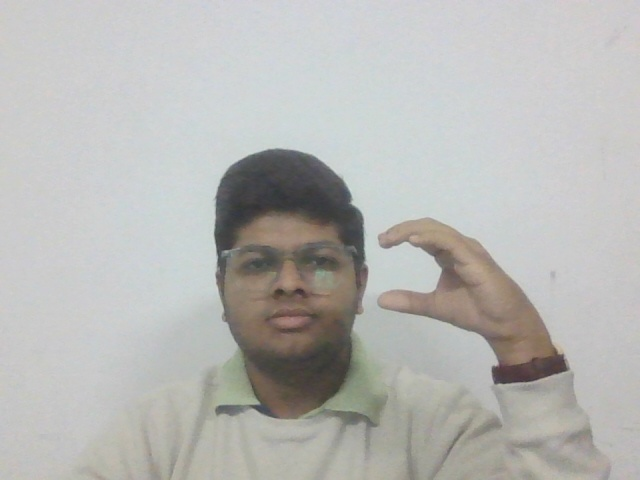C: (373, 214, 544, 340)
